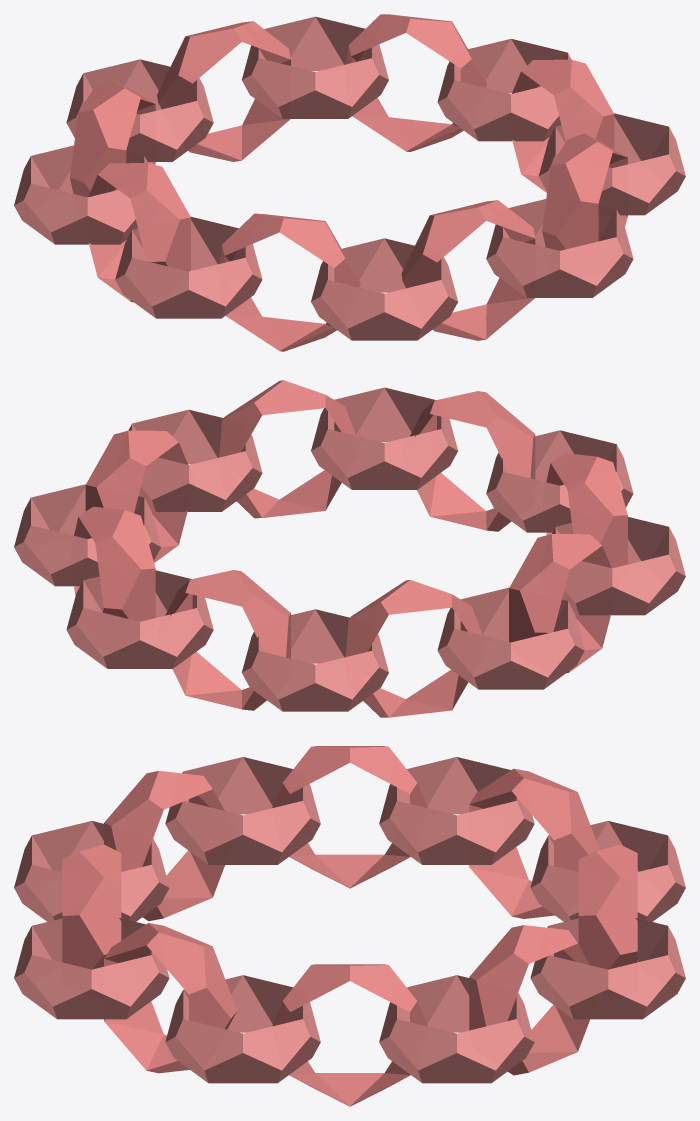
Rendered from fractalhexagonaltrapezohedronantiprismtoroid1.glb.
3 views of the same model, one above another, from view 1: azimuth 30°, elevation 25°; view 2: azimuth 150°, elevation 25°; view 3: azimuth 270°, elevation 25° (orthographic). The views are drawn at different scales.
Bounding box in the file's own units: 10.41 × 2.41 × 10.41.
